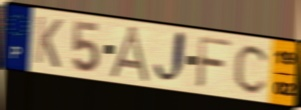5: (72, 18, 102, 74)
A: (107, 25, 154, 85)
C: (233, 42, 272, 96)
F: (194, 34, 234, 91)
J: (152, 28, 188, 88)
K: (33, 14, 65, 71)
